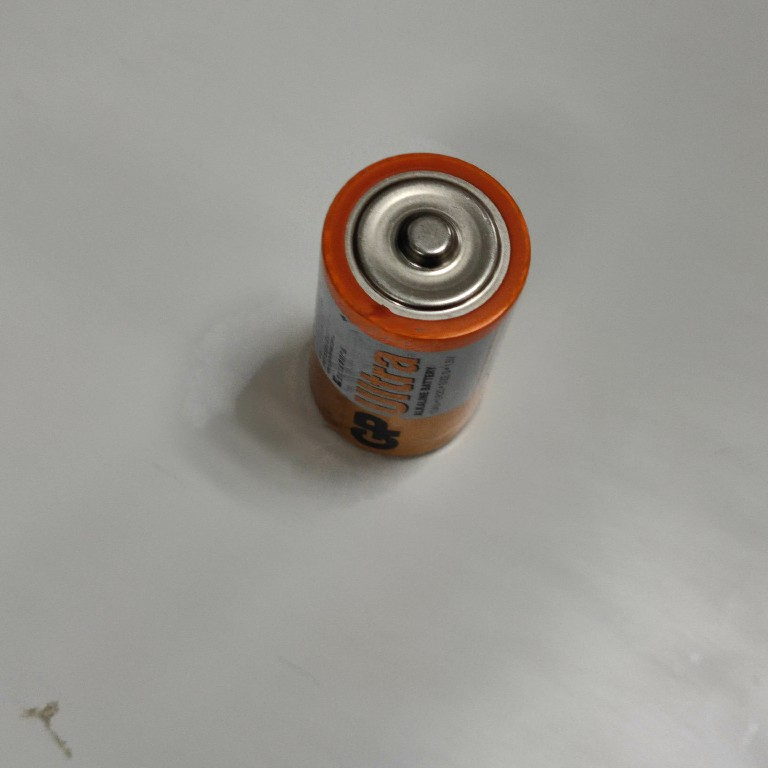charge: (305, 148, 533, 465)
